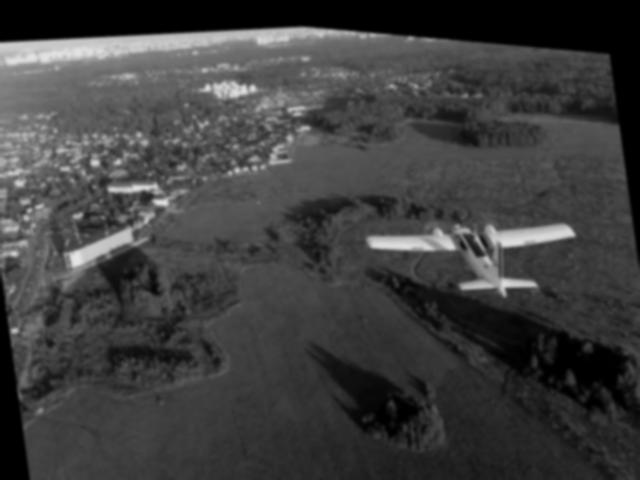hedef: (356, 182, 592, 325)
